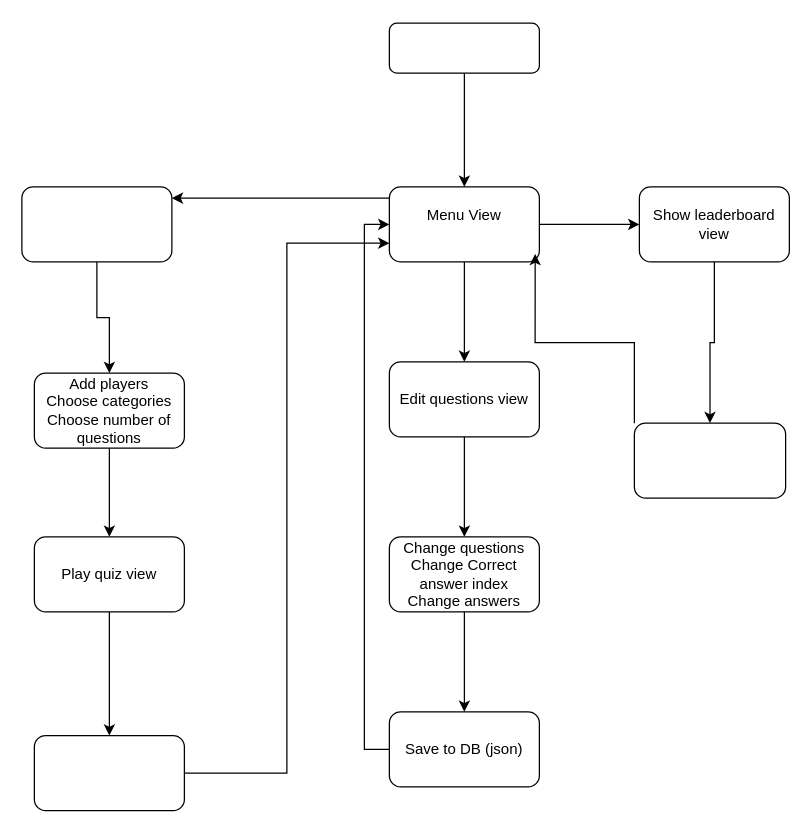
Some shapes in this 811 by 833 pixel diagram are drawn without their labels. Here are the shapes that lost their labels. From the top down, the centre of each, then its label:
(463,47): Main Content Load all questions Load old players
(96,224): Setup quiz view
(709,460): Show players ranking by %
(108,772): Använd skapade spelare, Använd Random frågor från valda kategorier
